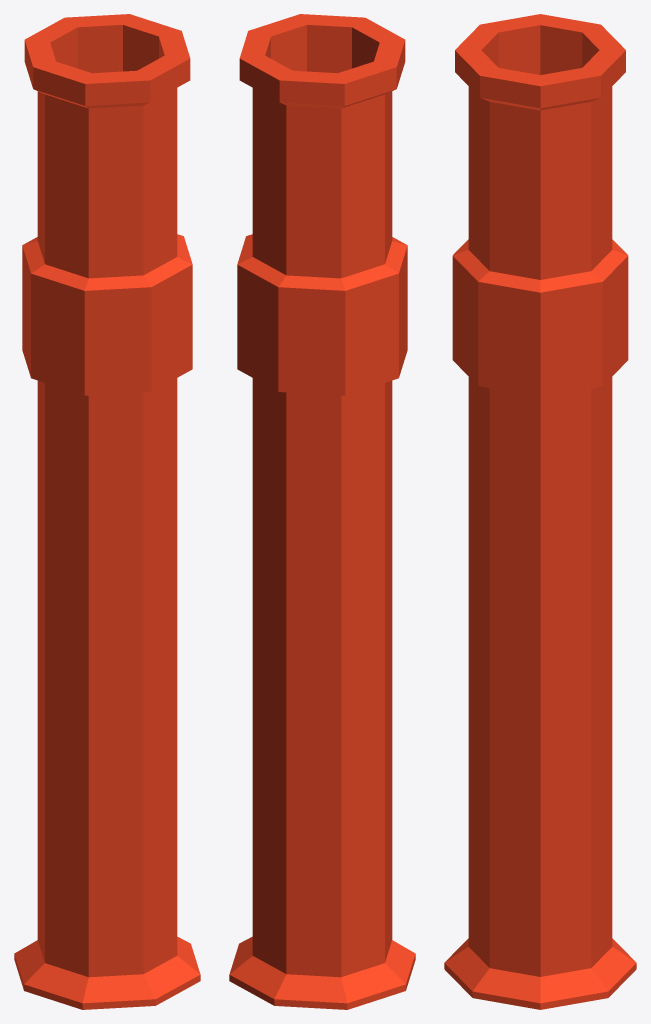
File: SM_Chimney_Tall_B_City.fbx
3 renders of one model, left to right at view 1: azimuth 30°, elevation 25°; view 2: azimuth 150°, elevation 25°; view 3: azimuth 270°, elevation 25°, orthographic.
Parts seen in each view (by area): view 1: SM_Chimney_Tall_B_City; view 2: SM_Chimney_Tall_B_City; view 3: SM_Chimney_Tall_B_City.
Part boxes in pixels (left/top/right/bottom): SM_Chimney_Tall_B_City: left=14, top=14, right=200, bottom=1009; SM_Chimney_Tall_B_City: left=229, top=14, right=415, bottom=1009; SM_Chimney_Tall_B_City: left=444, top=14, right=636, bottom=1009.
Size of the model in its own units: 0.1454 by 0.7674 by 0.1454.
